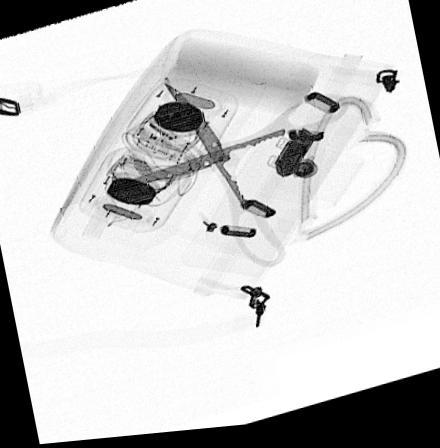Scissors: (102, 86, 350, 274)
